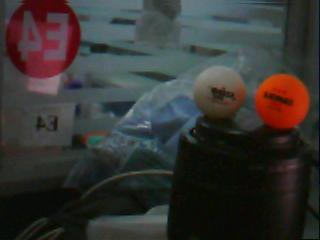oball: (255, 73, 309, 127)
